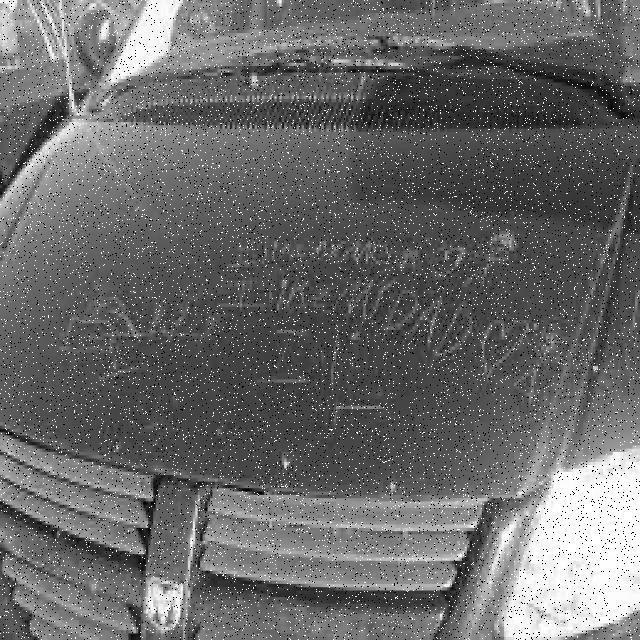bonnet-dent: (1, 33, 638, 511)
